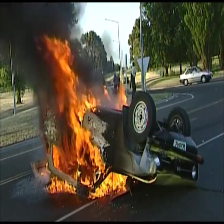fire_h: (44, 35, 110, 188), (87, 171, 127, 199), (46, 176, 76, 195)
fire_l: (115, 83, 127, 110), (41, 162, 51, 176), (103, 86, 110, 102)
